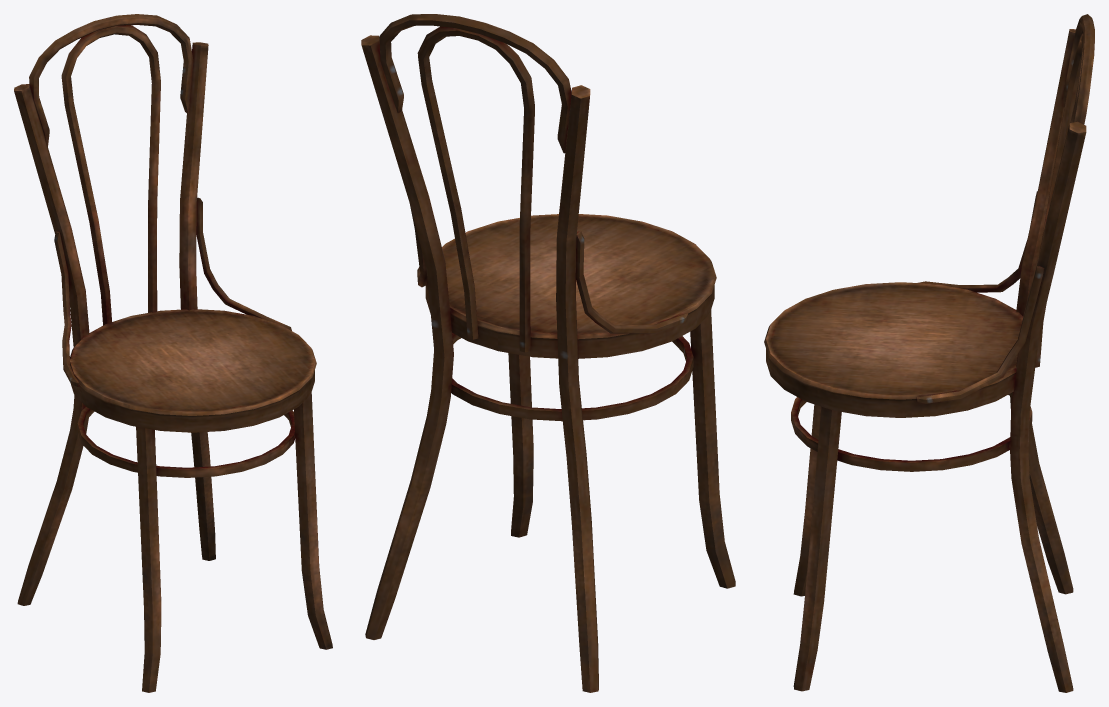
Rendered from old-wooden-chair-3f95ff.glb.
3 renders of one model, left to right at view 1: azimuth 30°, elevation 25°; view 2: azimuth 150°, elevation 25°; view 3: azimuth 270°, elevation 25°, orthographic. The views are drawn at different scales.
Parts seen in each view (by area): view 1: PropMesh; view 2: PropMesh; view 3: PropMesh.
Part boxes in pixels (left/top/right/bottom): PropMesh: left=14, top=14, right=332, bottom=692; PropMesh: left=361, top=14, right=735, bottom=692; PropMesh: left=764, top=14, right=1094, bottom=692.
Size of the model in its own units: 0.3739 by 0.9 by 0.4436.
Materials: 1 (1 with a texture image).
